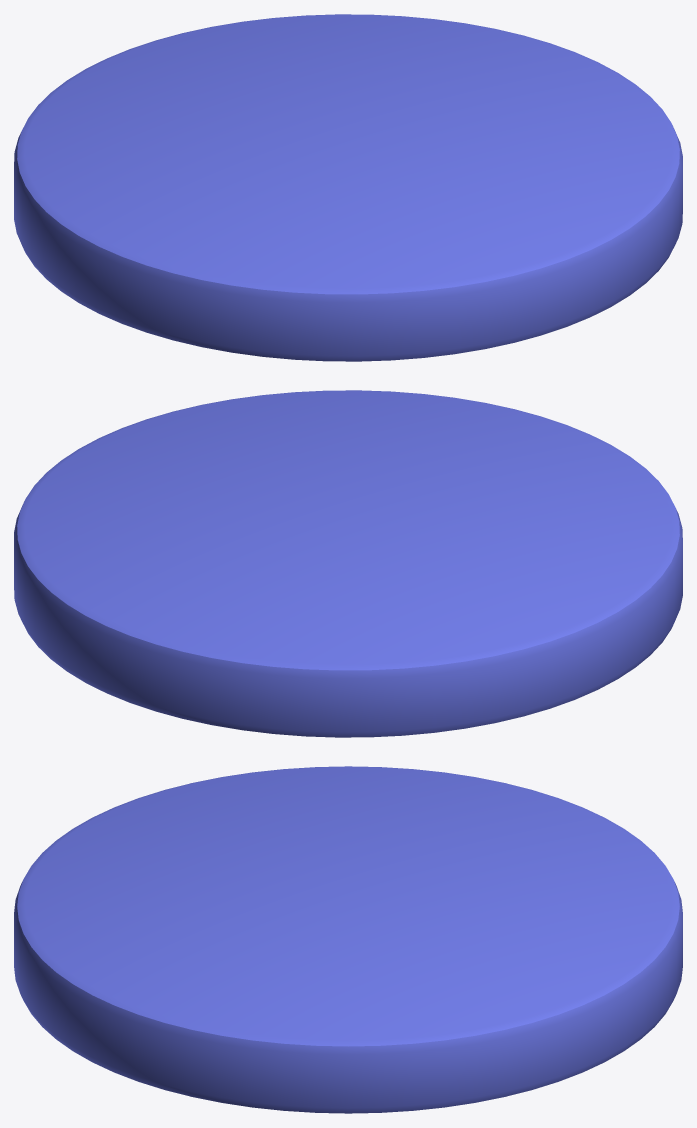
Rendered from guildmaster.glb.
3 views of the same model, one above another, from view 1: azimuth 30°, elevation 25°; view 2: azimuth 150°, elevation 25°; view 3: azimuth 270°, elevation 25° (orthographic).
Visible parts, largest first — view 1: Guildmaster; view 2: Guildmaster; view 3: Guildmaster.
Part boxes in pixels (x1=…): Guildmaster: x1=14, y1=14, x2=682, y2=361; Guildmaster: x1=14, y1=390, x2=682, y2=737; Guildmaster: x1=14, y1=766, x2=682, y2=1113.
Bounding box in the file's own units: 0.25 × 0.03 × 0.25.
